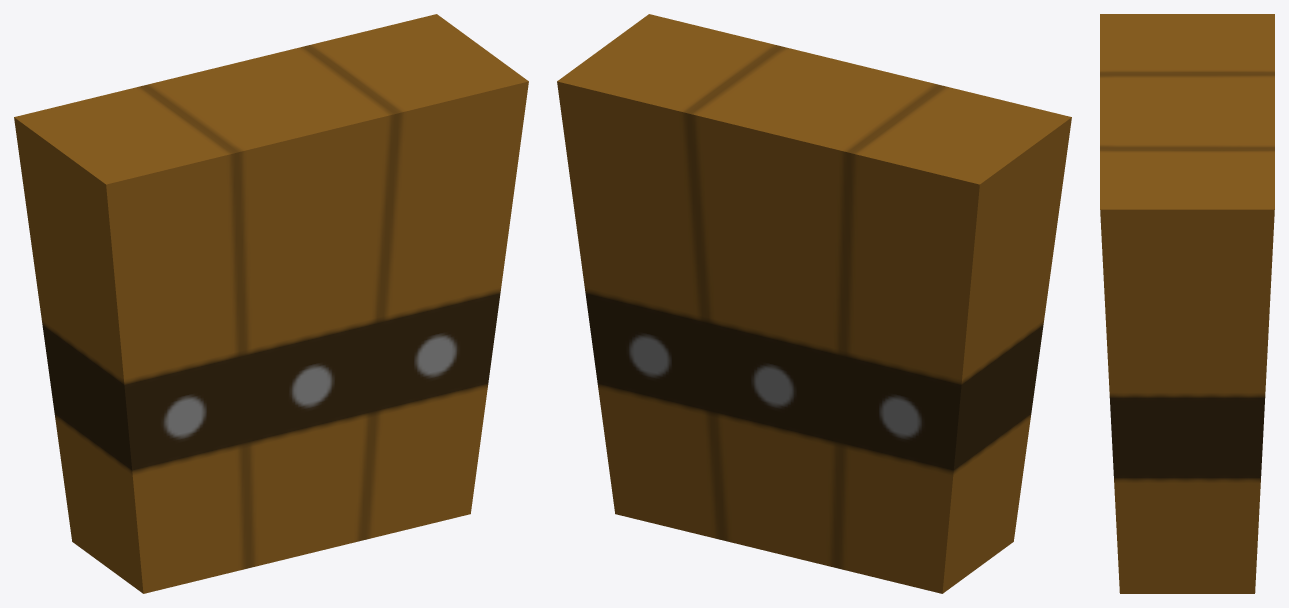
The model's file is Door.fbx.
3 views of the same model, side by side, from view 1: azimuth 30°, elevation 25°; view 2: azimuth 150°, elevation 25°; view 3: azimuth 270°, elevation 25° (orthographic). The views are drawn at different scales.
Visible parts, largest first — view 1: Door; view 2: Door; view 3: Door.
Part boxes in pixels (x1,y1,x2,y2): Door: (14,14,528,593); Door: (557,14,1071,593); Door: (1100,14,1274,593).
Size of the model in its own units: 68.48 by 66.33 by 25.84.
